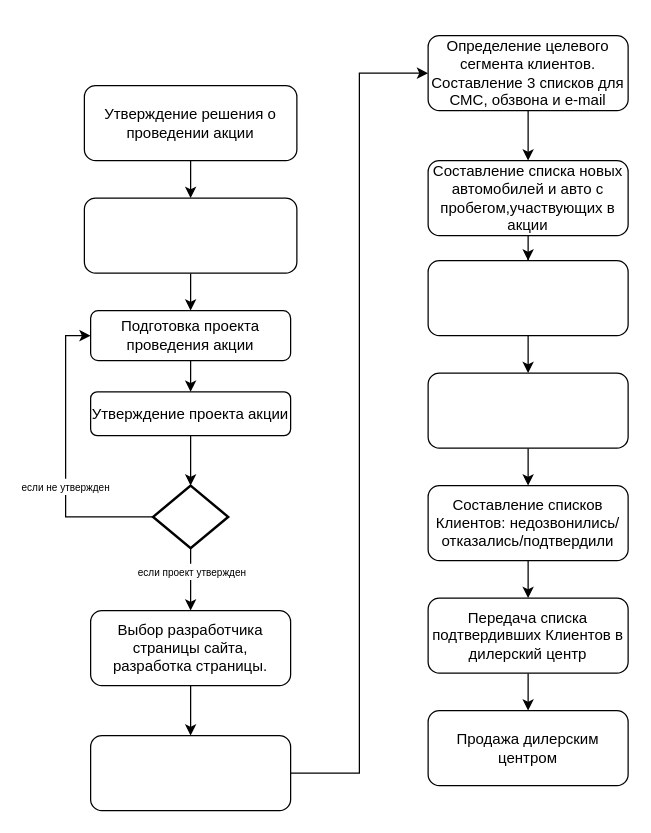
The diagram is 651 pixels wide and 833 high, and some of its shapes have lost their labels. Each missing label, with the centre of its shape:
"Выбор кол-центра, утверждение плана работы." belongs at (x=190, y=772).
"Обзвон Клиентов кол-центром" belongs at (x=527, y=410).
"Определение рабочей команды Заказчика и Исполнителя" belongs at (x=190, y=235).
"Отправка предложений Клиентам" belongs at (x=527, y=297).
